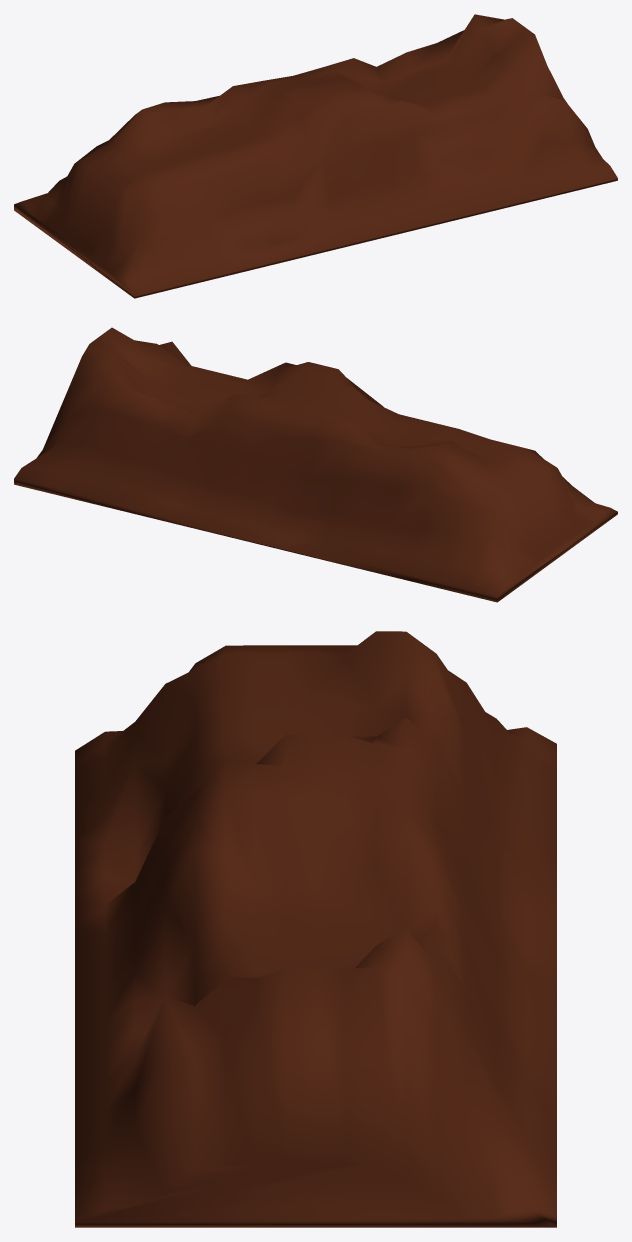
Rendered from wall-short.fbx.
3 views of the same model, one above another, from view 1: azimuth 30°, elevation 25°; view 2: azimuth 150°, elevation 25°; view 3: azimuth 270°, elevation 25° (orthographic). The views are drawn at different scales.
Parts seen in each view (by area): view 1: Plane.020; view 2: Plane.020; view 3: Plane.020.
Boxes of the visible parts, left/top/right/bottom form: Plane.020: left=14, top=14, right=617, bottom=298; Plane.020: left=14, top=327, right=617, bottom=602; Plane.020: left=75, top=631, right=556, bottom=1227.
Size of the model in its own units: 1868 by 445 by 806.
